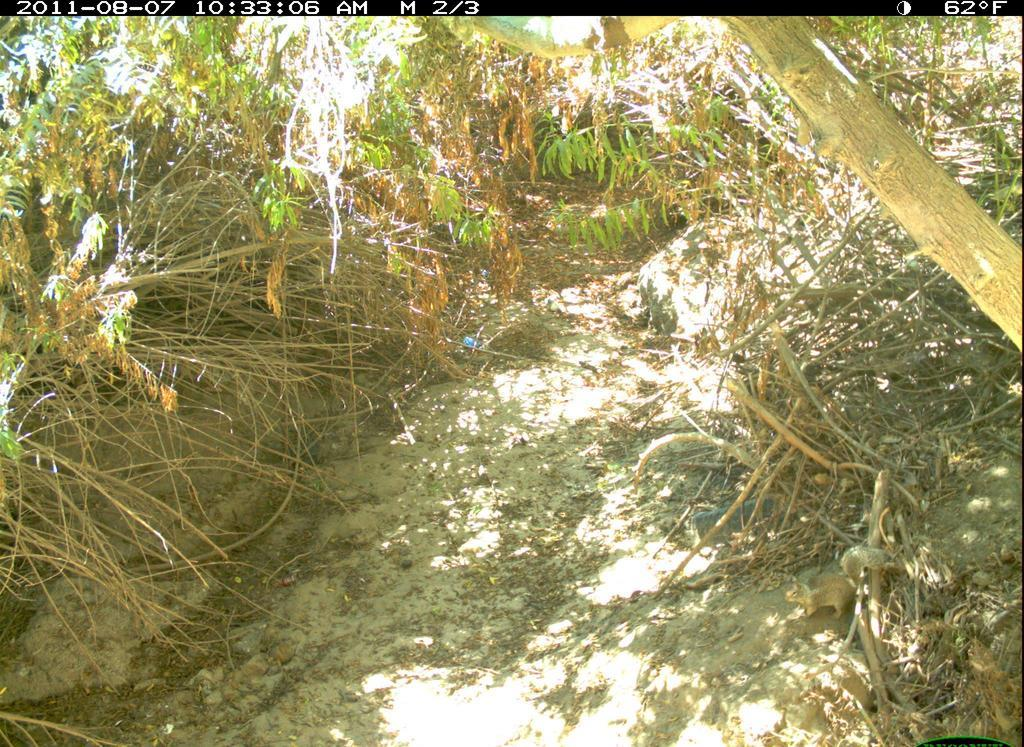squirrel: (776, 537, 895, 625)
